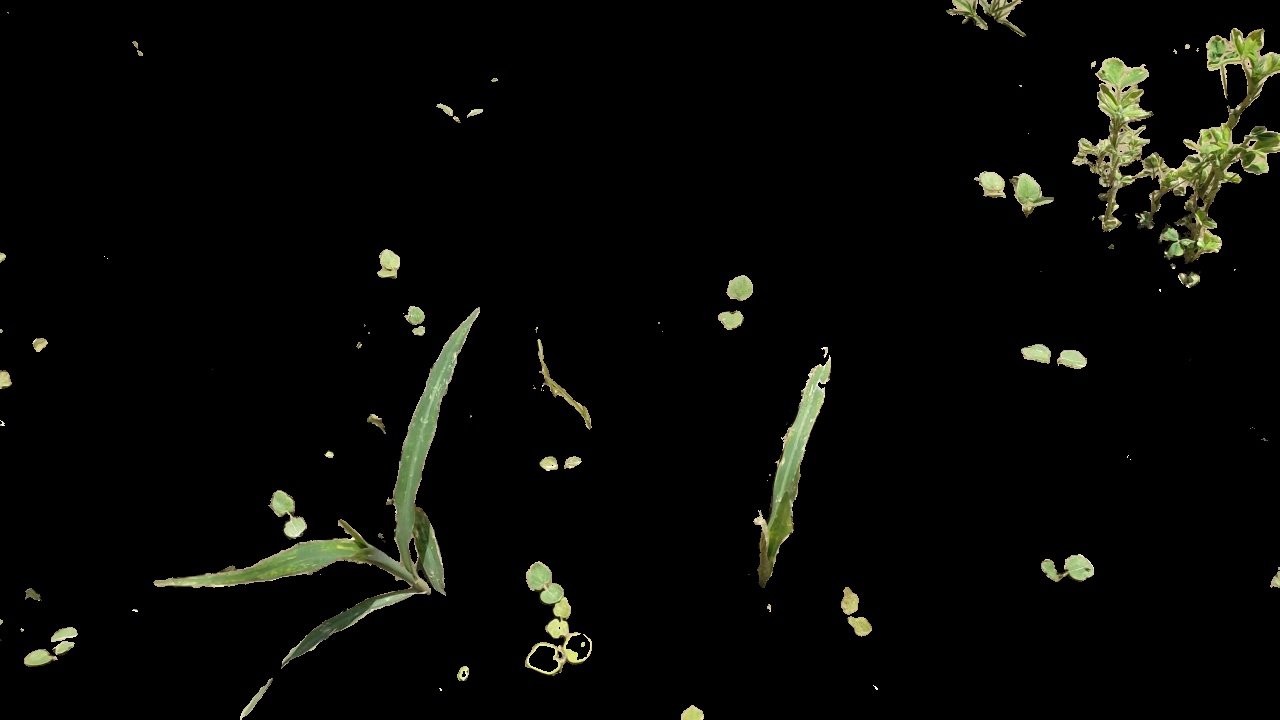crop: (325, 381, 484, 636), (150, 531, 482, 639), (750, 345, 830, 585)
weed: (1067, 33, 1280, 287), (510, 548, 601, 683), (960, 152, 1060, 225), (1035, 541, 1100, 597), (19, 621, 83, 677), (1010, 340, 1099, 376), (261, 488, 313, 541), (946, 1, 1029, 34), (715, 271, 753, 335), (839, 583, 876, 638), (538, 441, 587, 479), (432, 99, 486, 131), (397, 295, 432, 342), (374, 241, 404, 287)
